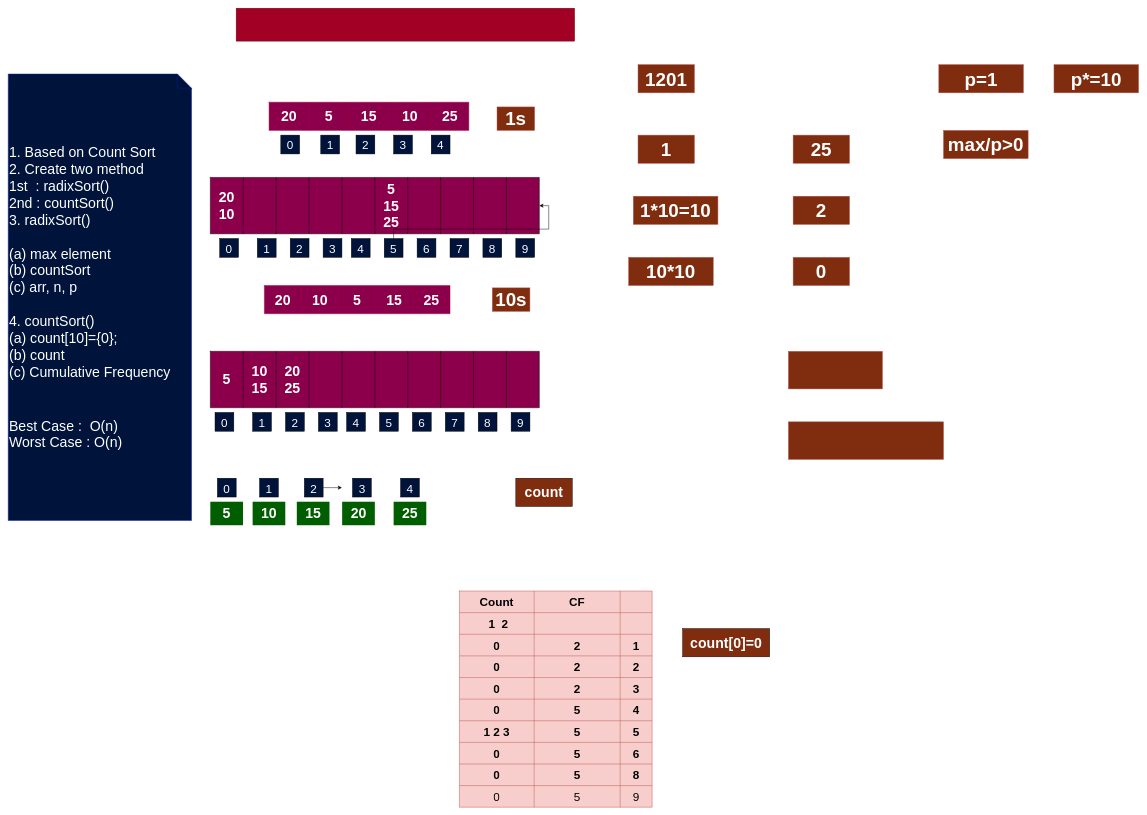
Some shapes in this 1147 by 815 pixel diagram are drawn without their labels. The shapes that lost their labels are listed below. From the top down, each one's centre as x and y in pixels, then its label:
At pixel 405 24: "Data Structure & Algorithm | Sorting | Radix Sort".
At pixel 835 370: "count[10]".
At pixel 866 440: "count[arr[i]]++".
